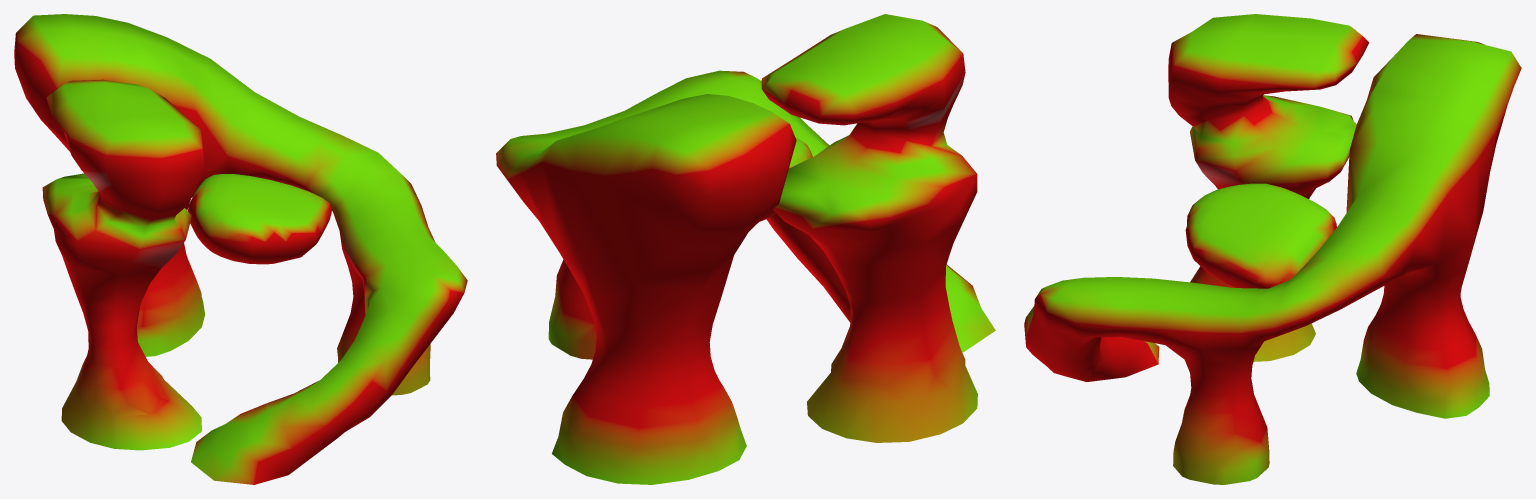
Rendered from Spiral Rocks.fbx.
3 renders of one model, left to right at view 1: azimuth 30°, elevation 25°; view 2: azimuth 150°, elevation 25°; view 3: azimuth 270°, elevation 25°, orthographic. The views are drawn at different scales.
Parts seen in each view (by area): view 1: Spiral Rocks; view 2: Spiral Rocks; view 3: Spiral Rocks.
Part boxes in pixels (x1=…): Spiral Rocks: x1=14, y1=14, x2=467, y2=484; Spiral Rocks: x1=496, y1=14, x2=995, y2=484; Spiral Rocks: x1=1024, y1=14, x2=1521, y2=484.
Bounding box in the file's own units: 1456 × 1198 × 1716.
